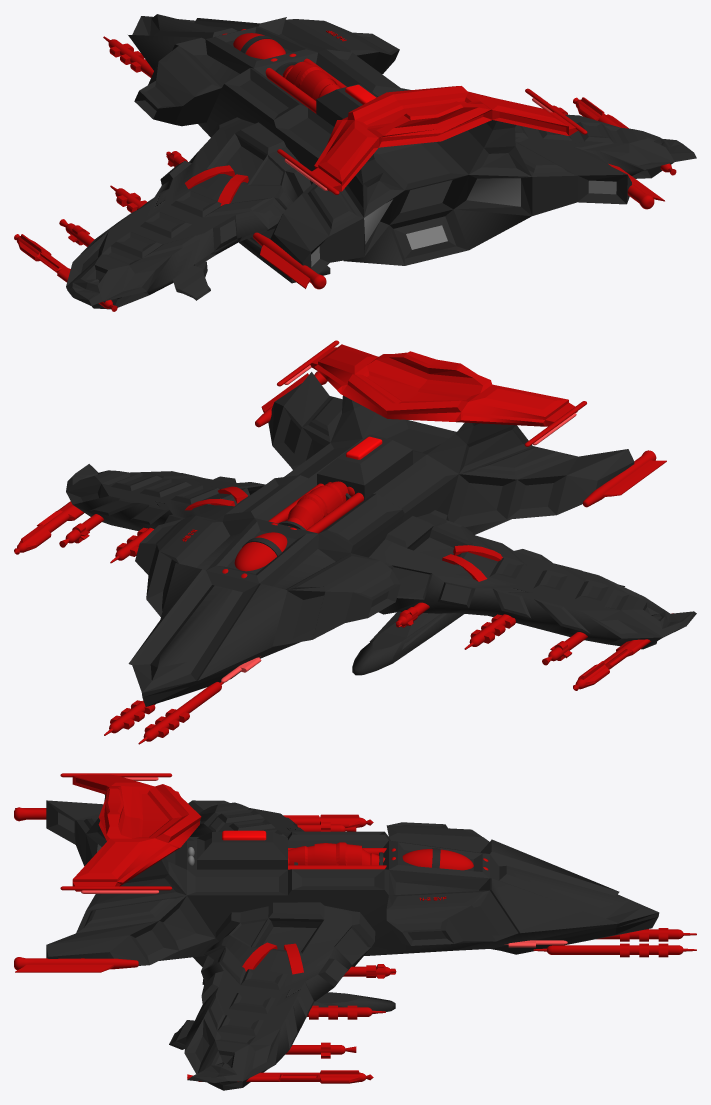
The model's file is spaceshiphehe.fbx.
3 renders of one model, top to bottom at view 1: azimuth 30°, elevation 25°; view 2: azimuth 150°, elevation 25°; view 3: azimuth 270°, elevation 25°, orthographic. The views are drawn at different scales.
Parts seen in each view (by area): view 1: Box002, Box011, Box003, Box004, ChamferCyl024, Sphere001, ChamferCyl018, Sphere002, ChamferCyl022, ChamferCyl016, Cylinder001, ChamferCyl011 (+4 smaller); view 2: Box002, Box011, Box003, Box004, Box010, Sphere001, ChamferCyl024, ChamferCyl022, Sphere002, ChamferCyl016, ChamferCyl018, ChamferCyl019 (+2 smaller); view 3: Box002, Box004, Box003, Box011, Sphere001, ChamferCyl011, ChamferCyl023, ChamferCyl016, Sphere002, Box009, ChamferCyl018, ChamferCyl014 (+4 smaller).
Part boxes in pixels (x1,y1,x2,y2): Box002: [128, 14, 631, 273]; Box011: [66, 117, 310, 309]; Box003: [312, 86, 577, 191]; Box004: [401, 88, 696, 178]; ChamferCyl024: [253, 232, 326, 289]; Sphere001: [282, 61, 340, 100]; ChamferCyl018: [14, 234, 117, 311]; Sphere002: [233, 33, 285, 59]; ChamferCyl022: [103, 36, 153, 77]; ChamferCyl016: [573, 97, 676, 175]; Cylinder001: [265, 68, 316, 113]; ChamferCyl011: [608, 163, 664, 209]; Box002: [128, 372, 634, 706]; Box011: [369, 510, 696, 649]; Box003: [310, 344, 577, 426]; Box004: [66, 464, 265, 530]; Box010: [352, 613, 463, 675]; Sphere001: [287, 481, 348, 529]; ChamferCyl024: [582, 450, 666, 507]; ChamferCyl022: [138, 682, 223, 744]; Sphere002: [234, 532, 287, 571]; ChamferCyl016: [14, 501, 84, 554]; ChamferCyl018: [573, 613, 672, 690]; ChamferCyl019: [464, 614, 515, 649]; Box002: [46, 794, 659, 1007]; Box004: [169, 902, 375, 1090]; Box003: [72, 774, 201, 891]; Box011: [188, 800, 304, 836]; Sphere001: [288, 842, 385, 865]; ChamferCyl011: [14, 957, 138, 972]; ChamferCyl023: [533, 943, 696, 957]; ChamferCyl016: [187, 1070, 373, 1083]; Sphere002: [402, 849, 473, 870]; Box009: [316, 992, 395, 1014]; ChamferCyl018: [283, 814, 373, 827]; ChamferCyl014: [307, 1005, 385, 1019].
Size of the model in its own units: 307 by 90.02 by 316.
